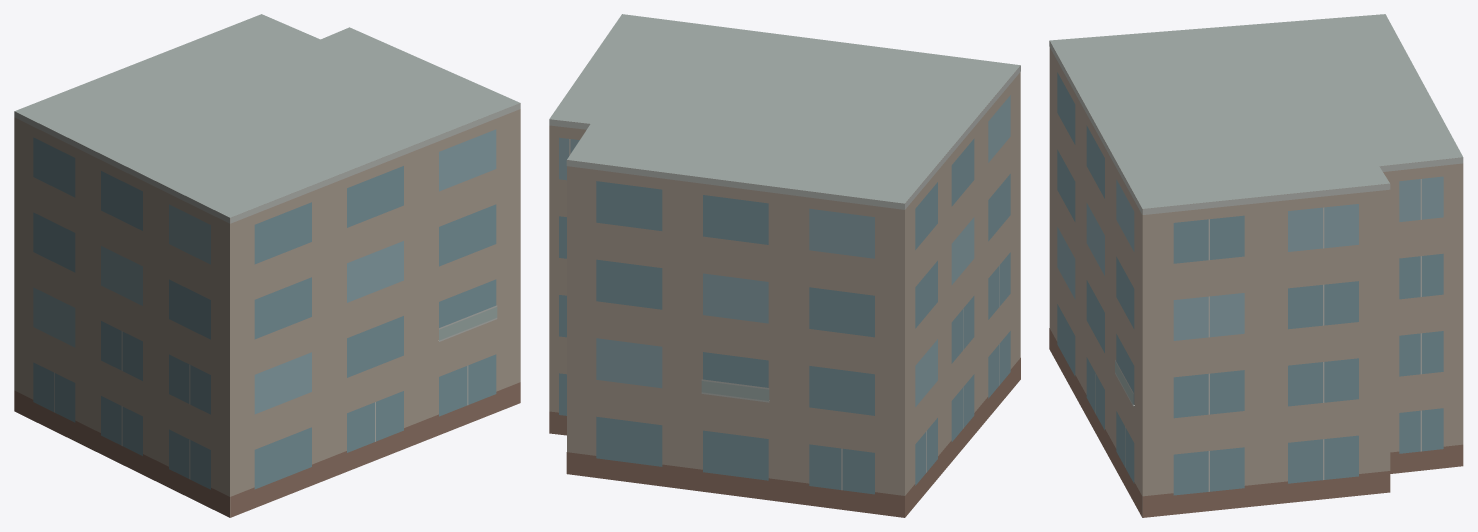
The model's file is survey-upis-32815105.glb.
3 views of the same model, side by side, from view 1: azimuth 30°, elevation 25°; view 2: azimuth 150°, elevation 25°; view 3: azimuth 270°, elevation 25° (orthographic). The views are drawn at different scales.
Visible parts, largest first — view 1: survey-upis-32815105.tmp; view 2: survey-upis-32815105.tmp; view 3: survey-upis-32815105.tmp.
Part boxes in pixels (<box>): survey-upis-32815105.tmp: <box>14,14,520,517</box>; survey-upis-32815105.tmp: <box>549,14,1020,517</box>; survey-upis-32815105.tmp: <box>1049,14,1463,517</box>.
Bounding box in the file's own units: 16.53 × 12.2 × 14.82.
